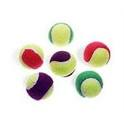tennis ball: (25, 71, 57, 102), (17, 42, 47, 71), (82, 40, 113, 68), (48, 50, 78, 78), (73, 70, 103, 98), (47, 21, 77, 48)
